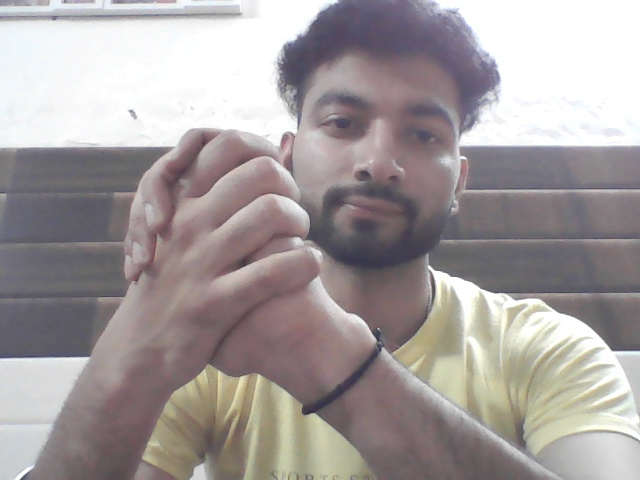Thank You: (90, 105, 348, 426)
